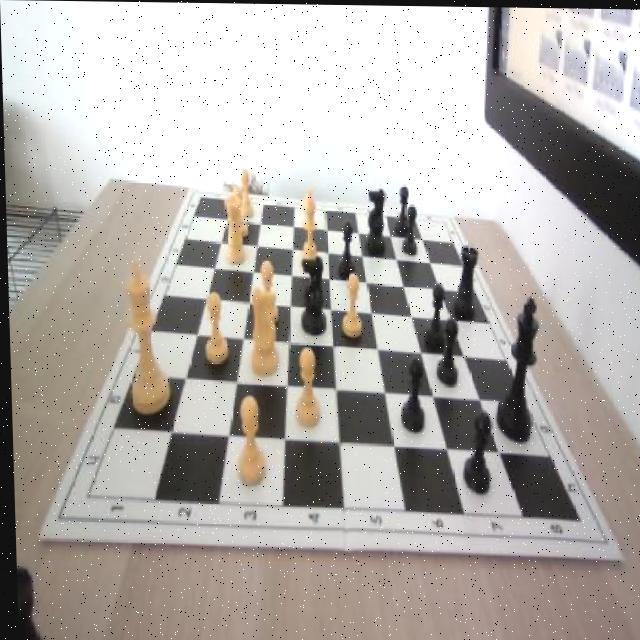black-bishop: (492, 296, 539, 441)
black-king: (297, 252, 327, 334), (362, 186, 386, 255)
black-knight: (459, 408, 490, 493), (398, 354, 425, 431), (432, 316, 457, 385), (422, 280, 445, 348), (336, 219, 356, 277), (400, 203, 417, 256), (393, 185, 410, 235)
black-queen: (450, 241, 477, 315)
black-rook: (294, 183, 322, 281)
white-bishop: (123, 254, 169, 413)
white-king: (240, 276, 282, 378)
white-knight: (230, 395, 265, 485), (289, 344, 322, 428), (199, 290, 228, 367), (252, 260, 278, 328), (340, 270, 362, 336), (229, 186, 248, 236), (235, 170, 254, 219)
white-queen: (221, 194, 246, 264)
